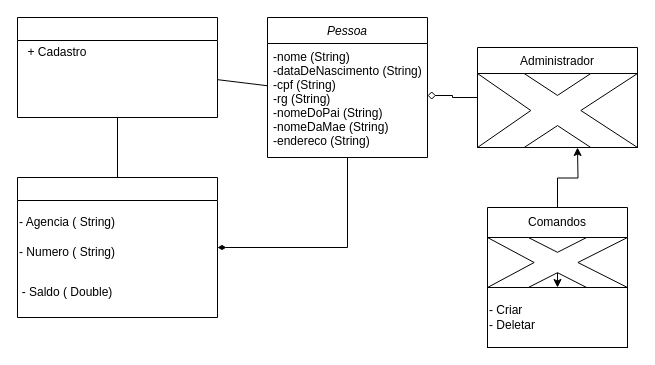
The diagram is 655 pixels wide and 365 high, and some of its shapes have lost their labels. The box of each missing label's shape, as (x1, y1, x2, y2) in pixels:
Banco: (16, 16, 218, 118)
Conta Bancaria: (16, 176, 218, 318)
